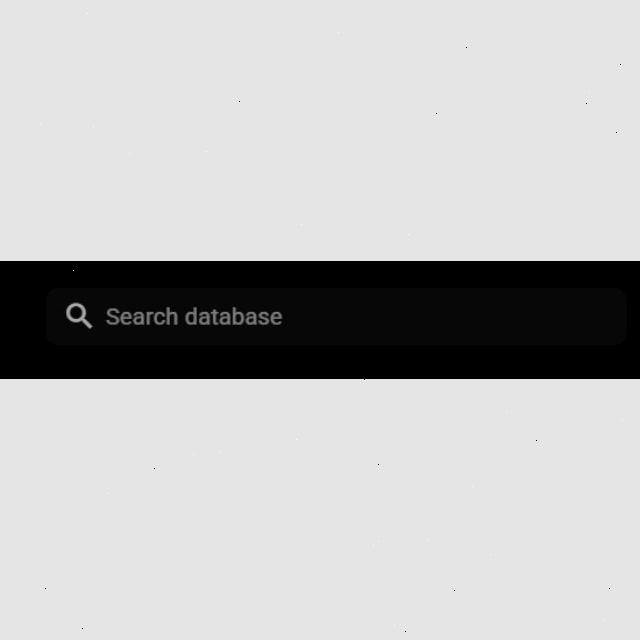VTextField: (43, 287, 629, 349)
